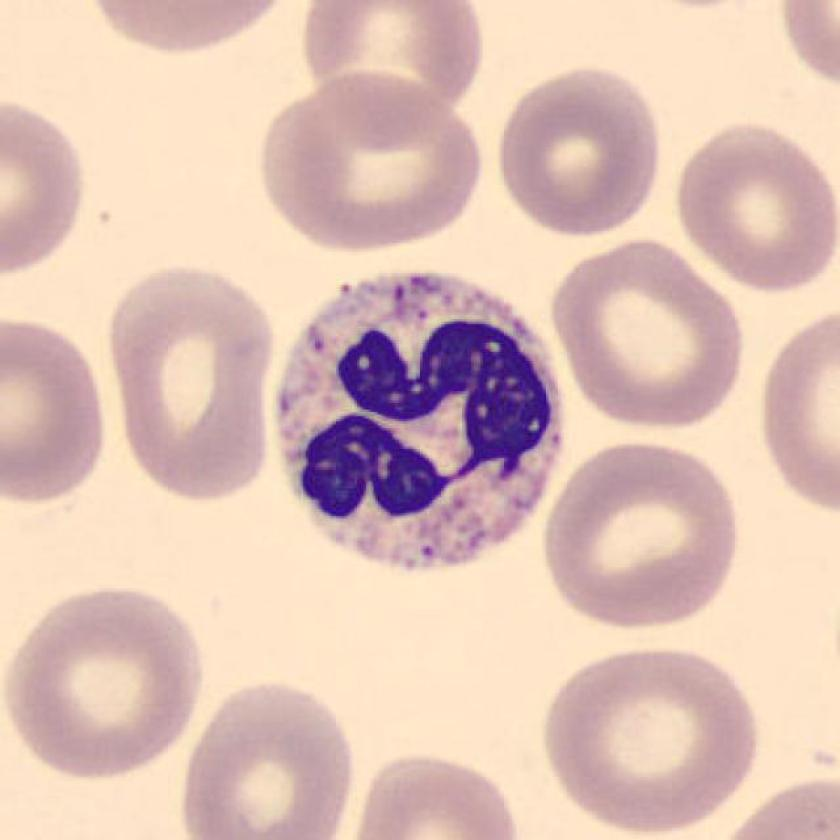neutrophil: (270, 273, 562, 567)
